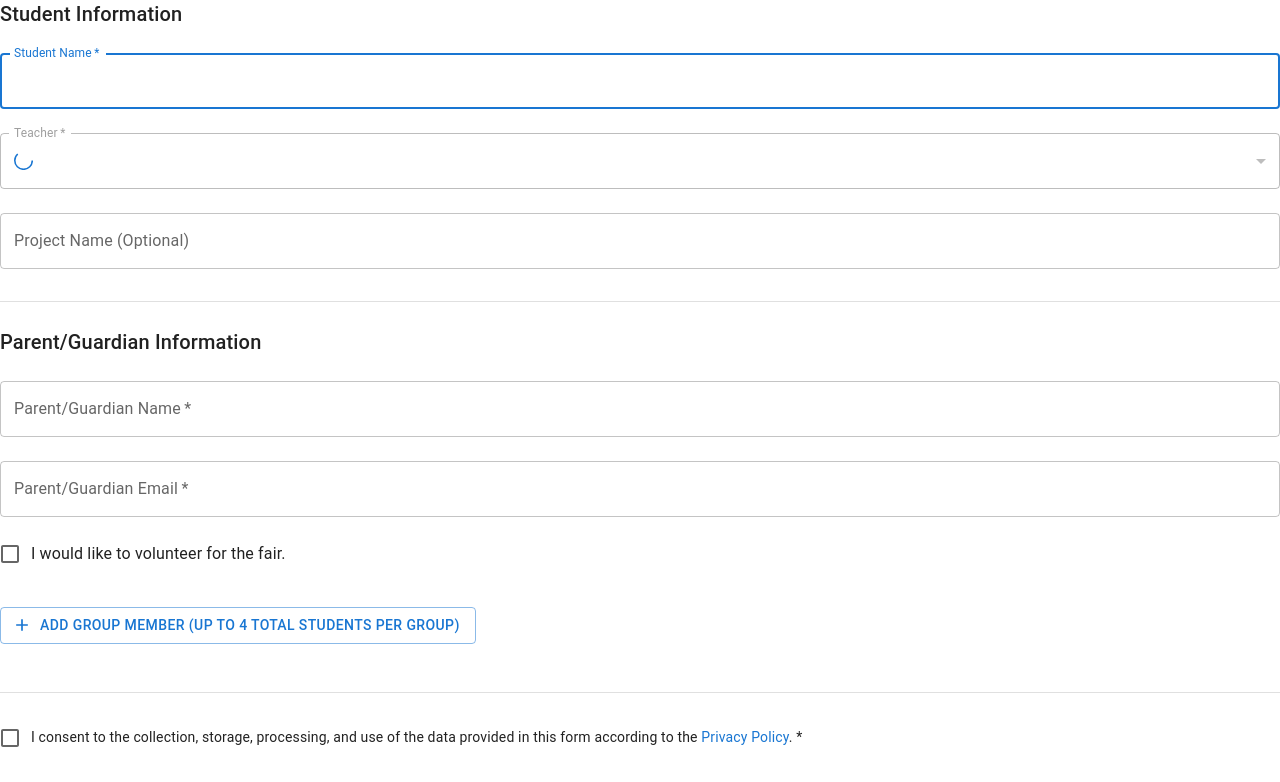
Test: RegistrationForm Component › should display loading spinner in additional student teacher select when loading
expect the progress indicator is shown: met, box [14, 151, 33, 171]
Add an additional student
Click the button "Add Group Member (Up to 4 total students per group)" at (238, 625), box [0, 607, 476, 644]
(page scrolled)
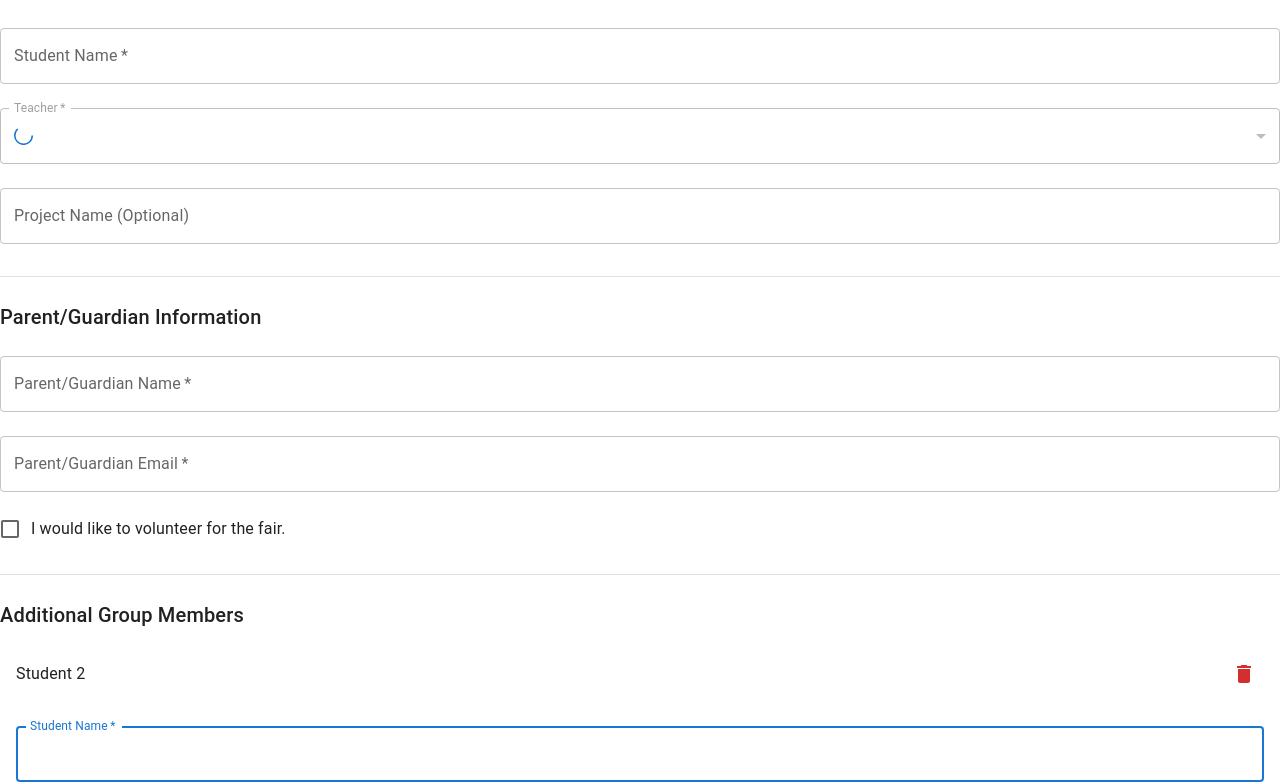
expect the number of progress indicators is 2: met
